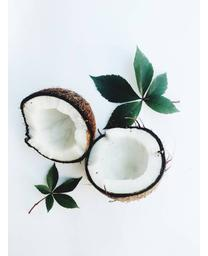coconut: (85, 126, 167, 203), (19, 87, 97, 165)
